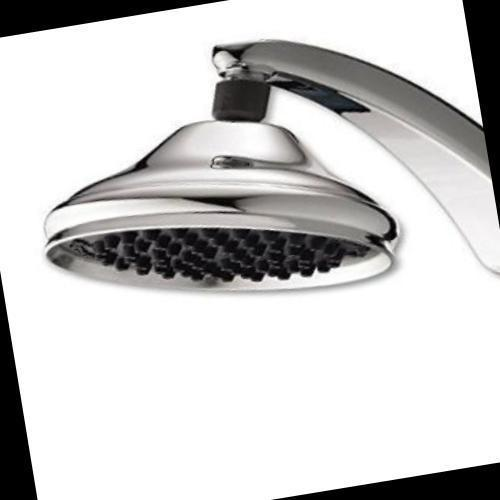Ducha: (1, 0, 500, 383)
